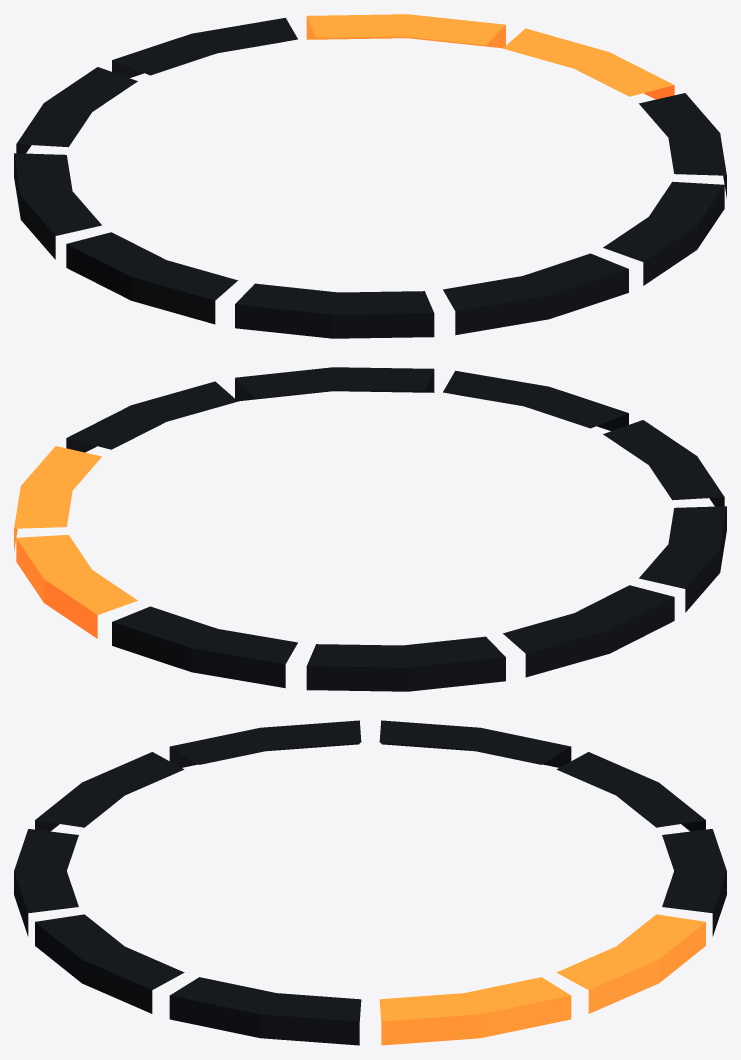
File: hpr_2.glb
3 views of the same model, one above another, from view 1: azimuth 30°, elevation 25°; view 2: azimuth 150°, elevation 25°; view 3: azimuth 270°, elevation 25° (orthographic).
Visible parts, largest first — view 1: hpr_2; view 2: hpr_2; view 3: hpr_2.
Part boxes in pixels (left/top/right/bottom): hpr_2: left=14, top=14, right=726, bottom=338; hpr_2: left=14, top=367, right=726, bottom=691; hpr_2: left=14, top=720, right=726, bottom=1045.
Bounding box in the file's own units: 2.16 × 0.08 × 2.16.
